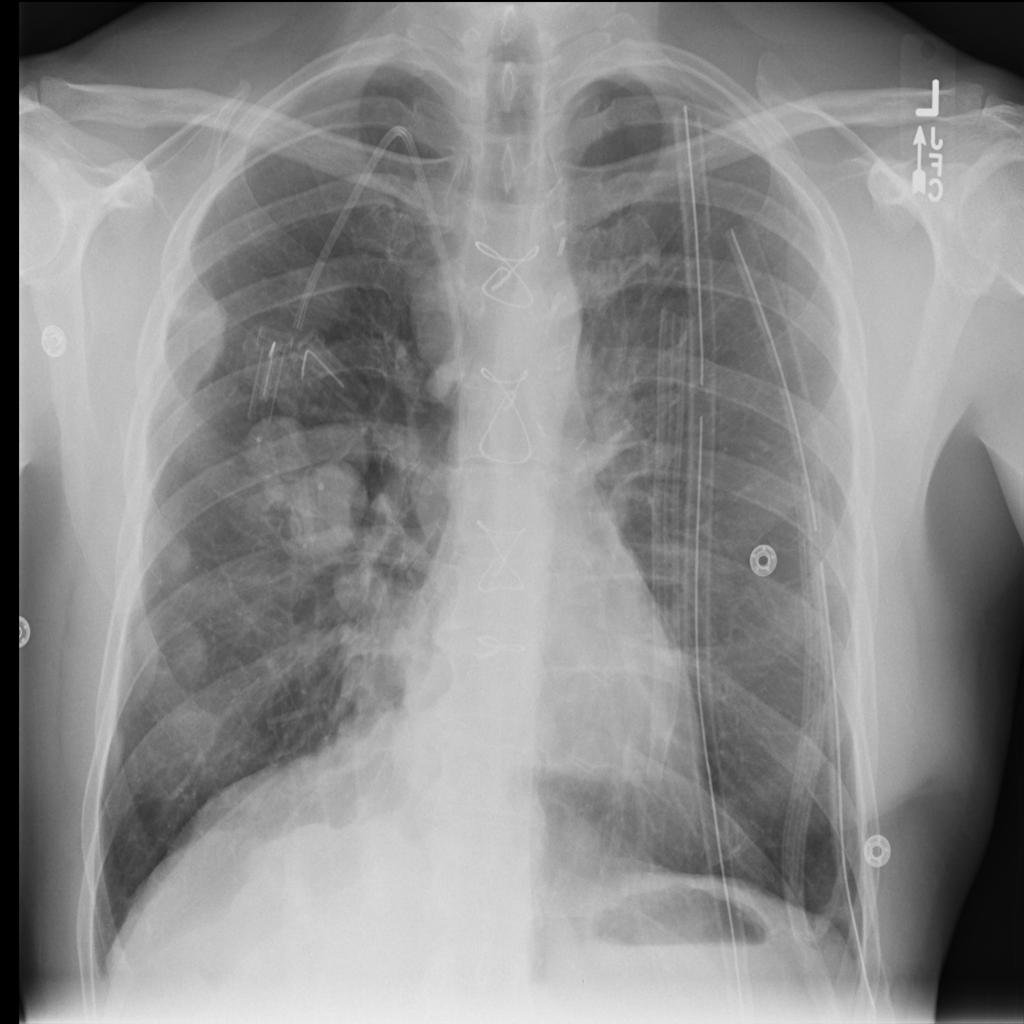nodule: (288, 466, 372, 579), (240, 400, 315, 492), (150, 610, 218, 693)
